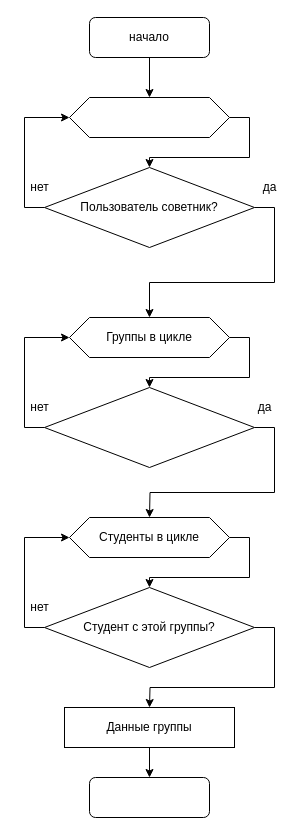
This 302x835 diagram has some shape labels left out. The shapes that lost their labels are listed below. From the top down, each one's box as (x1, y1, x2, y2) in pixels, then its label:
(68, 96, 230, 138): Советники в цикле
(44, 386, 254, 468): Пользователь, советник этой группы?
(88, 776, 210, 818): Конец
